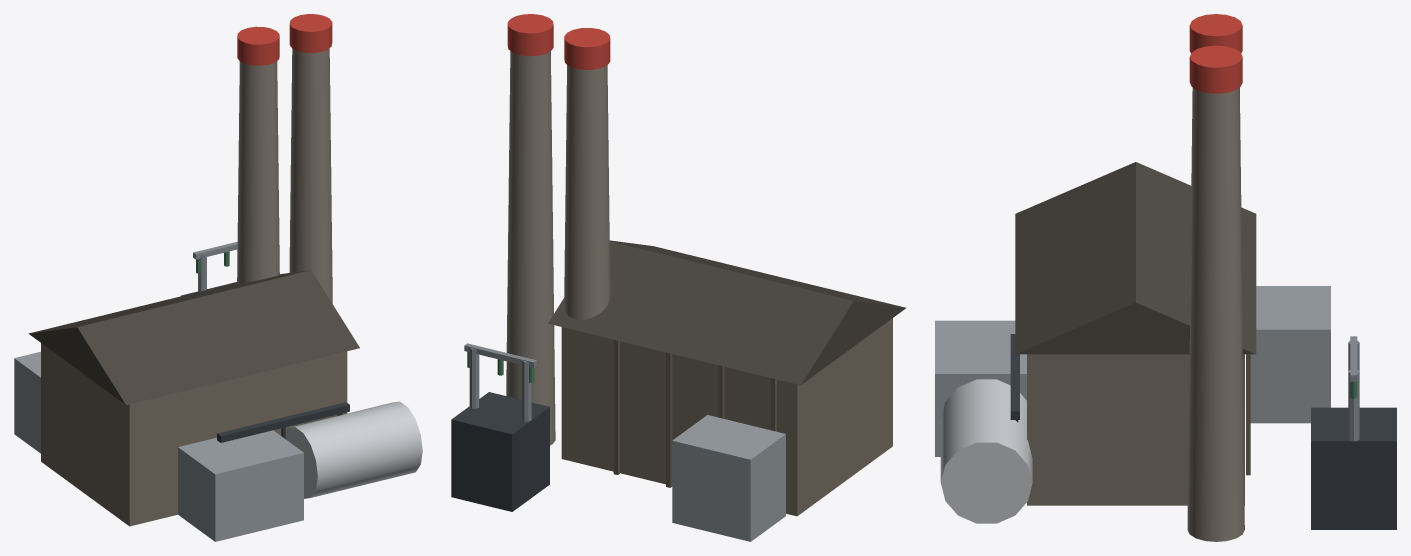
The model's file is gas_plant.glb.
The picture shows the model from 3 angles, left to right: view 1: azimuth 30°, elevation 25°; view 2: azimuth 150°, elevation 25°; view 3: azimuth 270°, elevation 25°; orthographic projection. The views are drawn at different scales.
Visible parts, largest first — view 1: hall, hall_roof, skid, stack1, tank, stack0, control_wall, stack1_band, stack0_band, pipe_rack; view 2: hall, hall_roof, stack1, control_wall, stack0, transformer, stack1_band, stack0_band, rib2, rib3, yard_leg1, yard_arm (+1 smaller); view 3: hall_roof, hall, stack1, tank, control_wall, transformer, skid, stack1_band, stack0_band, pipe_rack, yard_leg1, rib3.
Part boxes in pixels (box(x1,y1,x2,y2)): hall: box(41, 343, 347, 526); hall_roof: box(28, 270, 359, 404); skid: box(178, 430, 303, 541); stack1: box(289, 48, 332, 303); tank: box(285, 401, 422, 498); stack0: box(237, 61, 279, 283); control_wall: box(14, 351, 40, 453); stack1_band: box(289, 14, 332, 52); stack0_band: box(237, 26, 279, 65); pipe_rack: box(217, 402, 349, 442); hall: box(561, 318, 892, 516); hall_roof: box(548, 240, 905, 385); stack1: box(506, 51, 555, 445); control_wall: box(672, 415, 785, 541); stack0: box(564, 65, 610, 319); transformer: box(451, 392, 549, 511); stack1_band: box(507, 14, 553, 56); stack0_band: box(564, 28, 610, 69); rib2: box(666, 352, 672, 487); rib3: box(613, 340, 619, 474); yard_leg1: box(469, 348, 479, 408); yard_arm: box(464, 343, 536, 367); hall_roof: box(1015, 162, 1256, 354); hall: box(1027, 354, 1244, 505); stack1: box(1187, 88, 1244, 541); tank: box(940, 379, 1032, 523); control_wall: box(1250, 286, 1330, 423); transformer: box(1311, 407, 1396, 529); skid: box(935, 320, 1026, 456); stack1_band: box(1189, 45, 1242, 93); stack0_band: box(1189, 14, 1242, 53); pipe_rack: box(1010, 334, 1019, 419); yard_leg1: box(1348, 369, 1359, 441); rib3: box(1246, 354, 1250, 475).
Bounding box in the file's own units: 7.1 × 9.1 × 8.05.
